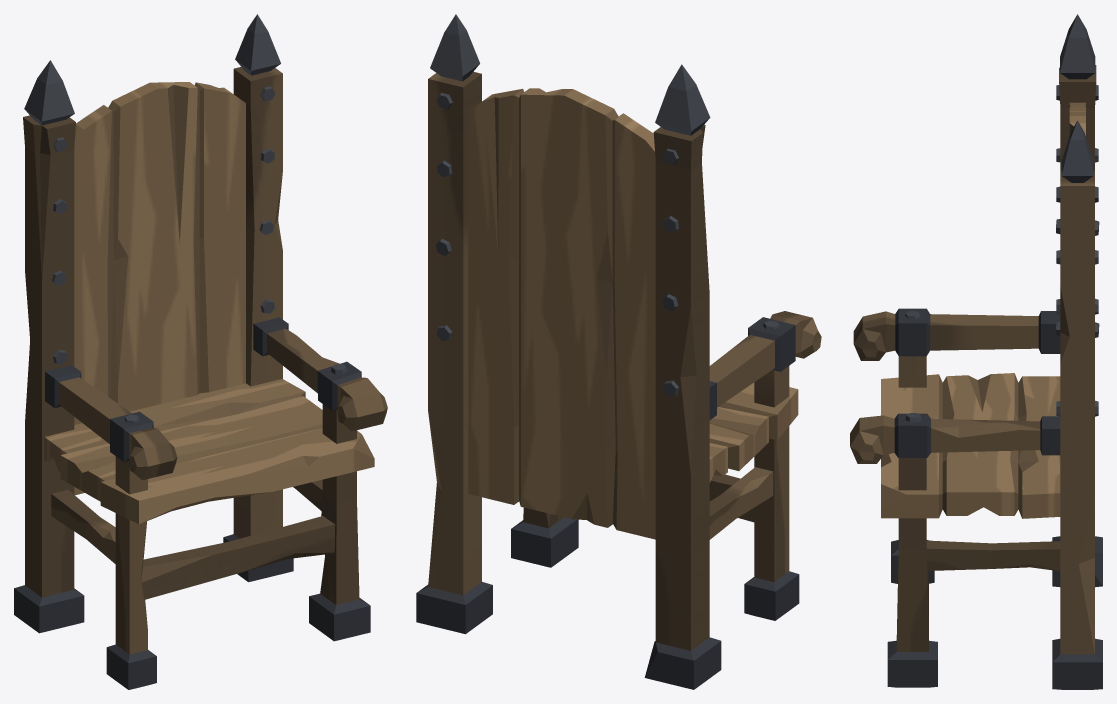
File: SM_Prop_Throne_02.fbx
The picture shows the model from 3 angles, left to right: view 1: azimuth 30°, elevation 25°; view 2: azimuth 150°, elevation 25°; view 3: azimuth 270°, elevation 25°; orthographic projection. The views are drawn at different scales.
Parts seen in each view (by area): view 1: SM_Prop_Throne_02; view 2: SM_Prop_Throne_02; view 3: SM_Prop_Throne_02.
Part boxes in pixels (x1=…): SM_Prop_Throne_02: x1=14, y1=14, x2=387, y2=689; SM_Prop_Throne_02: x1=416, y1=14, x2=821, y2=689; SM_Prop_Throne_02: x1=850, y1=14, x2=1102, y2=689.
Bounding box in the file's own units: 70.28 × 148 × 60.12.
